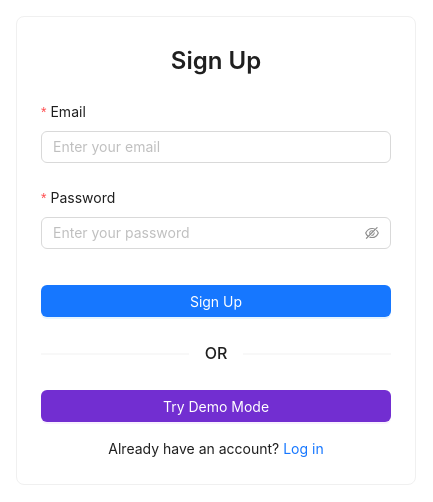
Test case: SignUp Component › displays validation error for invalid email
// Submit with invalid email
Type "invalid-email" into the field with placeholder "Enter your email".
click(216, 147); type("invalid-email")  # box [41,131,391,163]
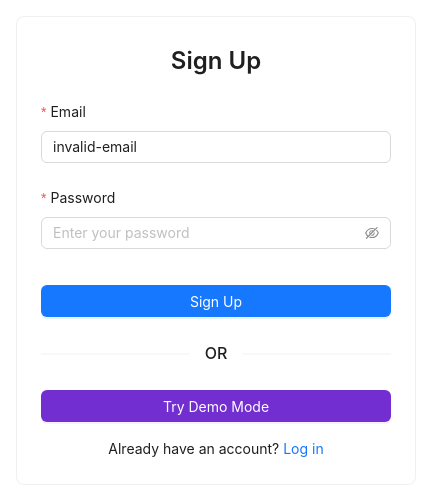
Type "password123" into the password field with placeholder "Enter your password".
click(207, 233); type("password123")  # box [53,222,361,244]
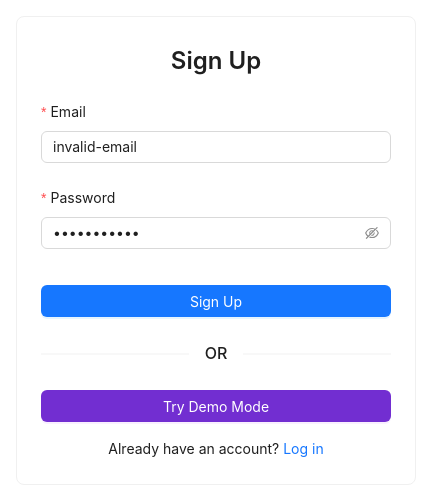
Click the button "Sign Up".
click(216, 301)  # box [41,285,391,317]
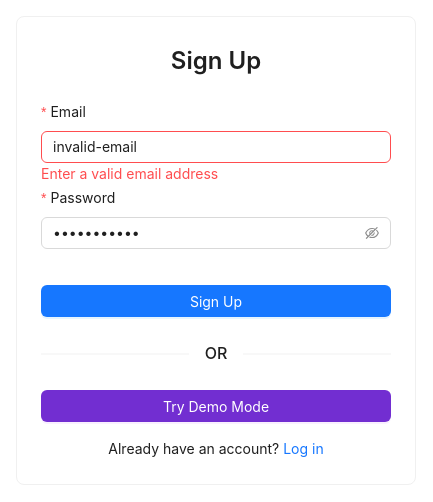
Now the text "Enter a valid email address" is shown, box [41,165,218,182]
